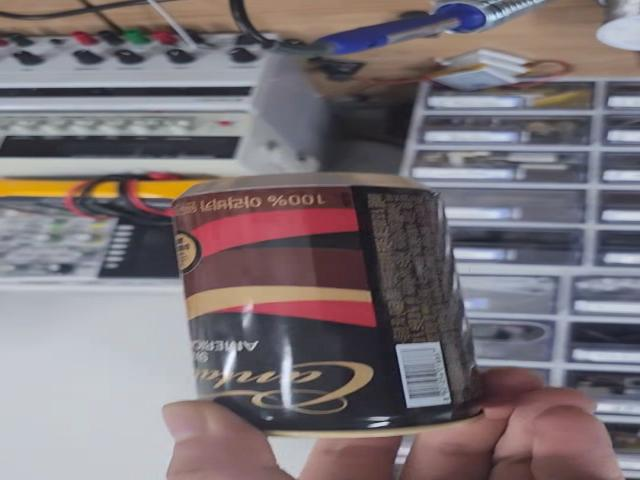Canned_drinks: (170, 181, 501, 440)
